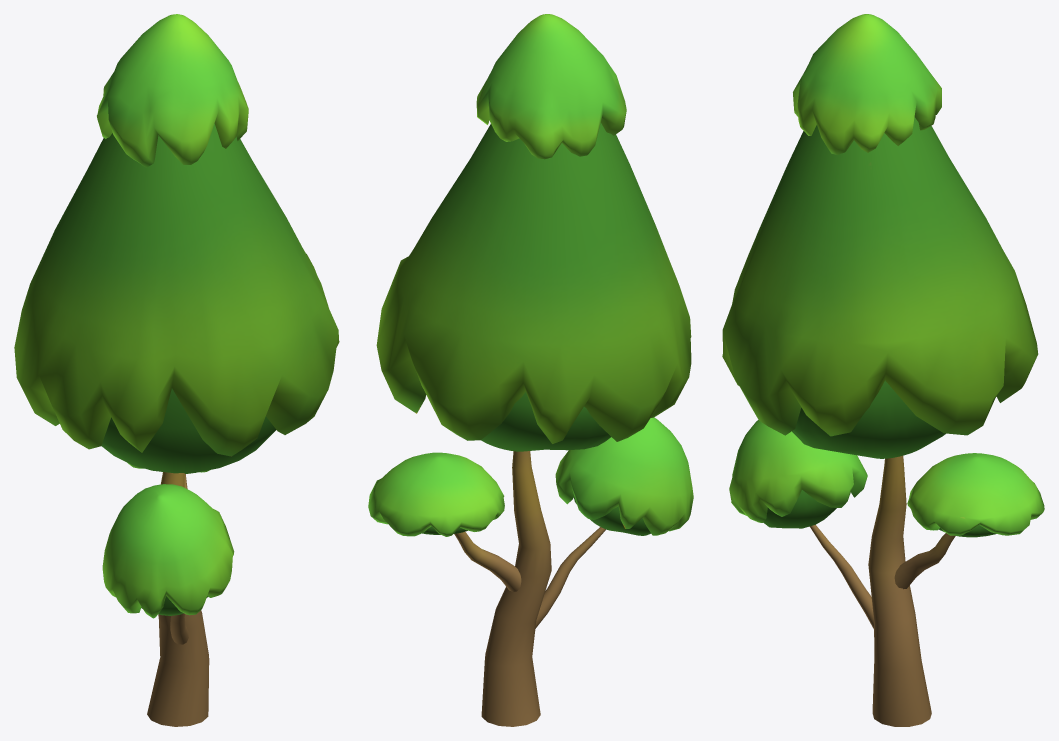
The model's file is SM_Tree_12.fbx.
The picture shows the model from 3 angles, left to right: view 1: azimuth 30°, elevation 25°; view 2: azimuth 150°, elevation 25°; view 3: azimuth 270°, elevation 25°; orthographic projection. The views are drawn at different scales.
Parts seen in each view (by area): view 1: tree12_LOD0; view 2: tree12_LOD0; view 3: tree12_LOD0.
Part boxes in pixels (box(x1,y1,x2,y2)): tree12_LOD0: box(14, 14, 339, 726); tree12_LOD0: box(368, 14, 693, 726); tree12_LOD0: box(722, 14, 1044, 726).
Size of what is drawn, in the model's own units: 976 by 2380 by 1006.
1 material, 1 textured.
